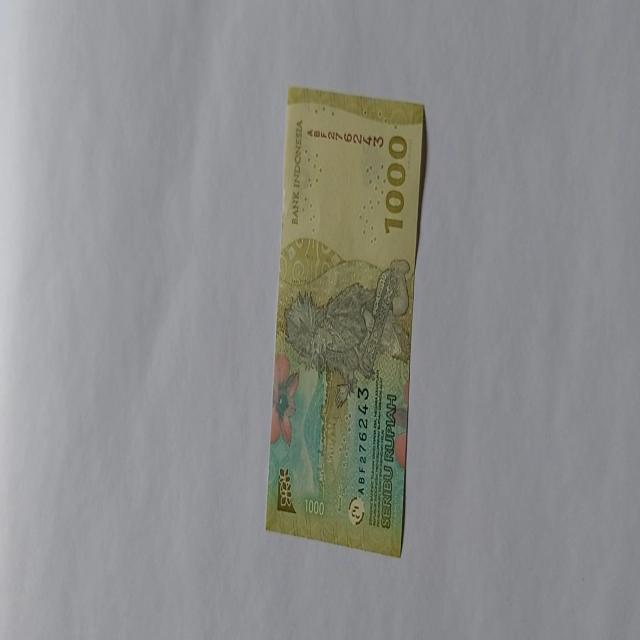seribu rupiah kertas: (264, 85, 426, 558)
